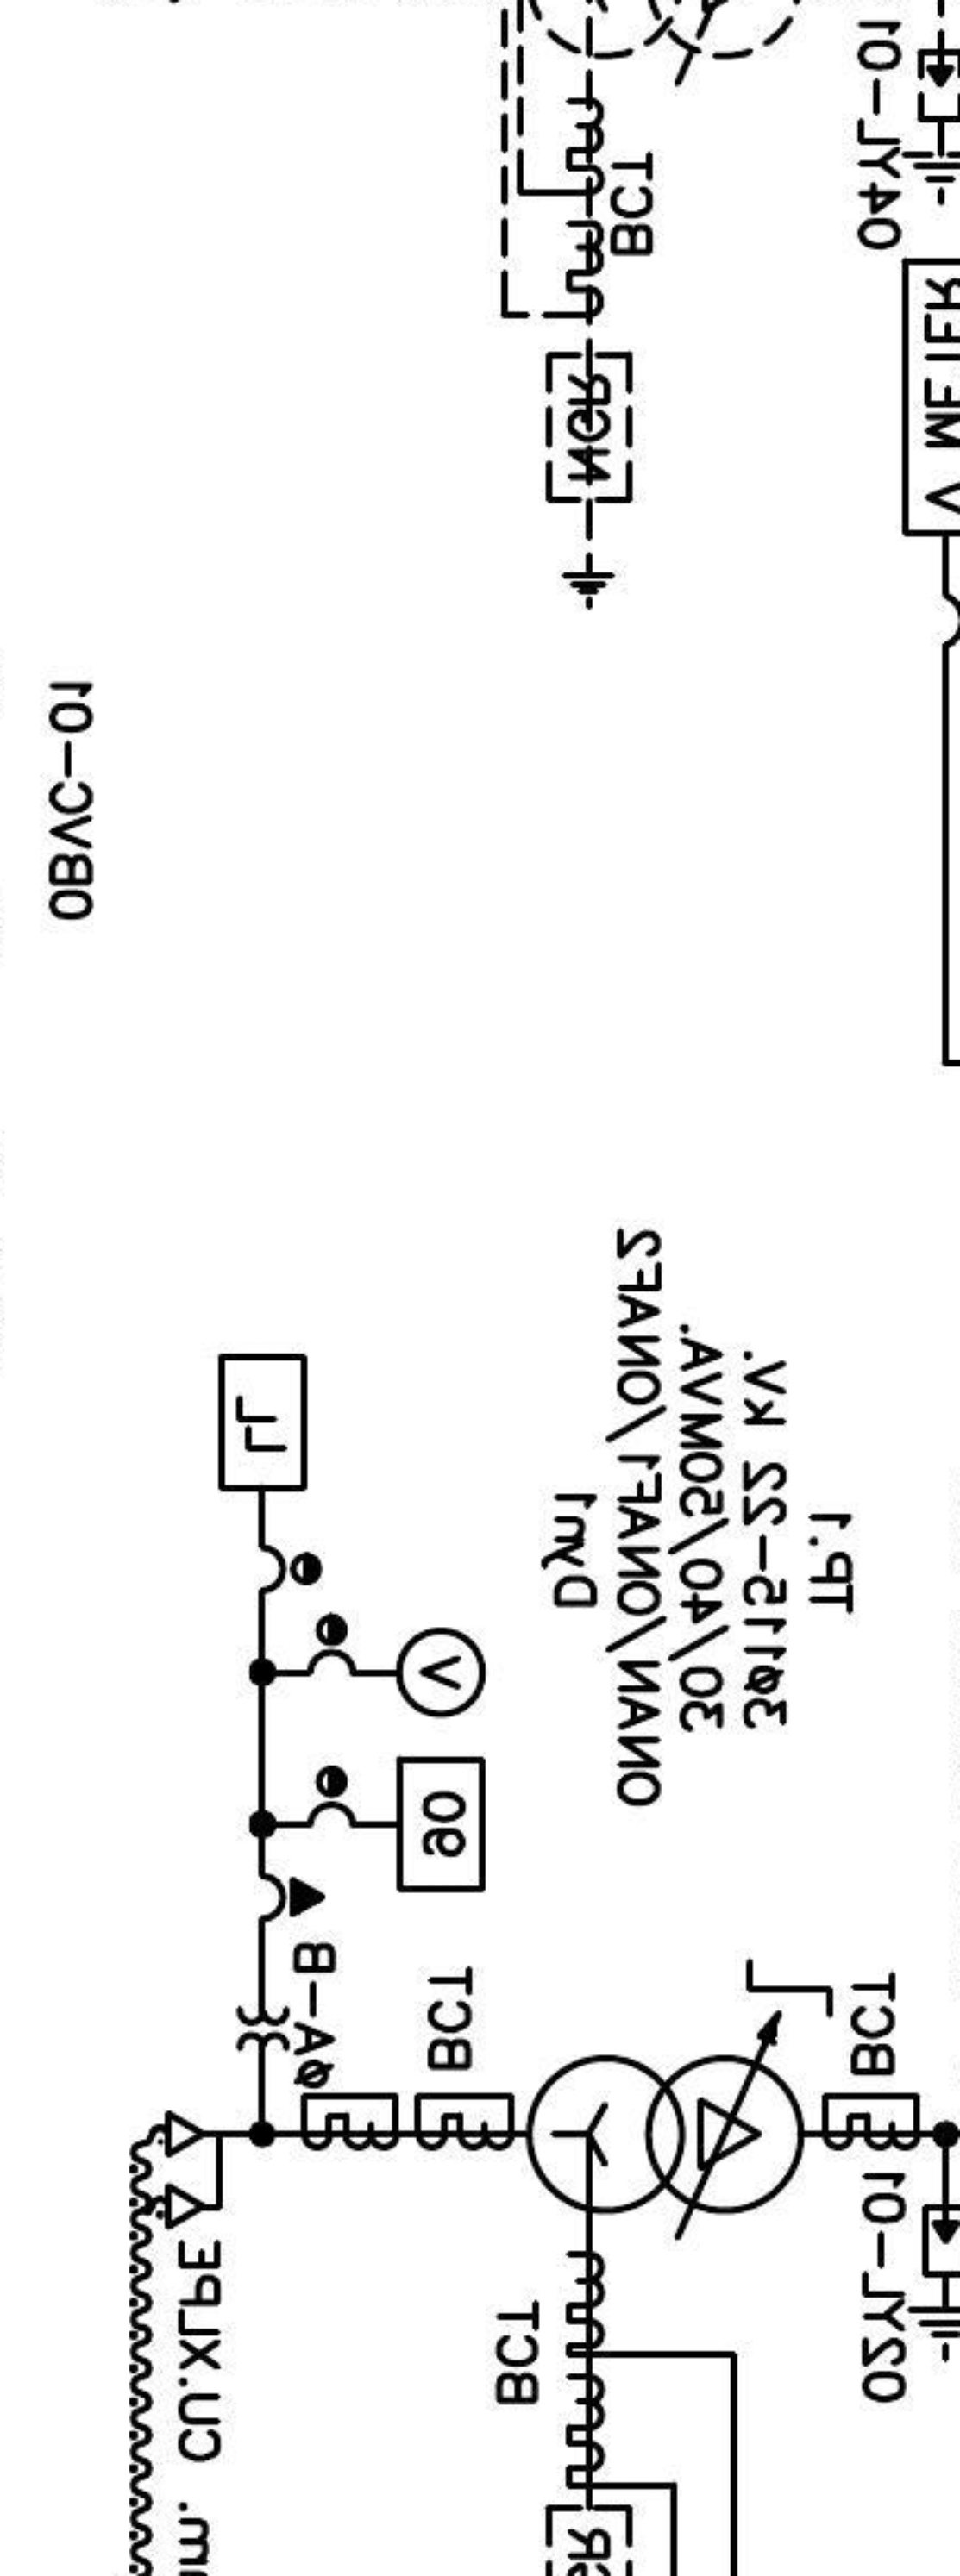11522_tx_dyn1: (524, 2054, 805, 2216)
LL: (217, 1350, 309, 1493)
terminator_double: (164, 2109, 224, 2229)
v_m: (395, 1625, 488, 1720)
